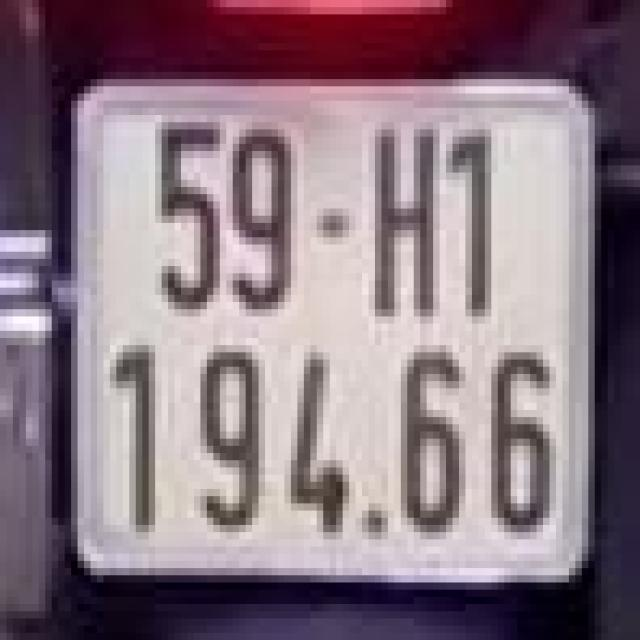1: (110, 345, 168, 547), (452, 129, 510, 331)
4: (282, 352, 352, 546)
5: (155, 115, 226, 309)
6: (394, 349, 466, 543), (485, 345, 556, 532)
9: (226, 126, 298, 313), (200, 348, 265, 528)
H: (362, 122, 446, 324)
